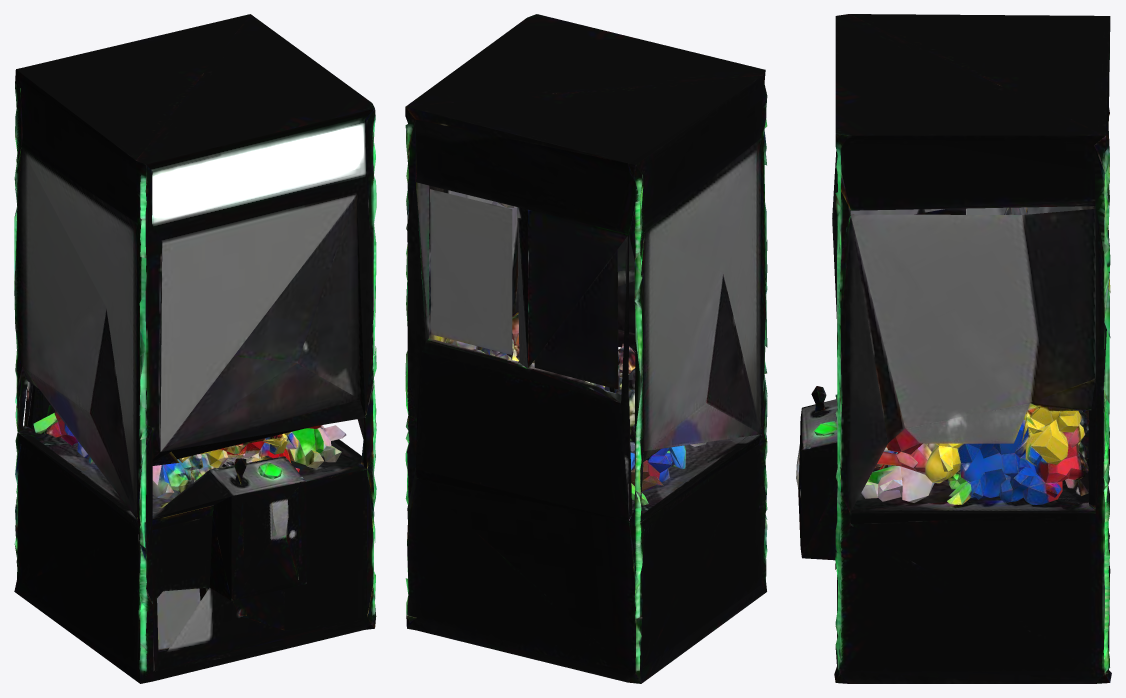
The model's file is claw.glb.
3 renders of one model, left to right at view 1: azimuth 30°, elevation 25°; view 2: azimuth 150°, elevation 25°; view 3: azimuth 270°, elevation 25°, orthographic. The views are drawn at different scales.
Parts seen in each view (by area): view 1: Mesh_0; view 2: Mesh_0; view 3: Mesh_0.
Part boxes in pixels (bbox=[...]): Mesh_0: bbox=[14, 14, 376, 683]; Mesh_0: bbox=[405, 14, 767, 683]; Mesh_0: bbox=[796, 14, 1111, 683].
Size of the model in its own units: 0.8898 by 1.9 by 0.9704.
Materials: 1 (1 with a texture image).
